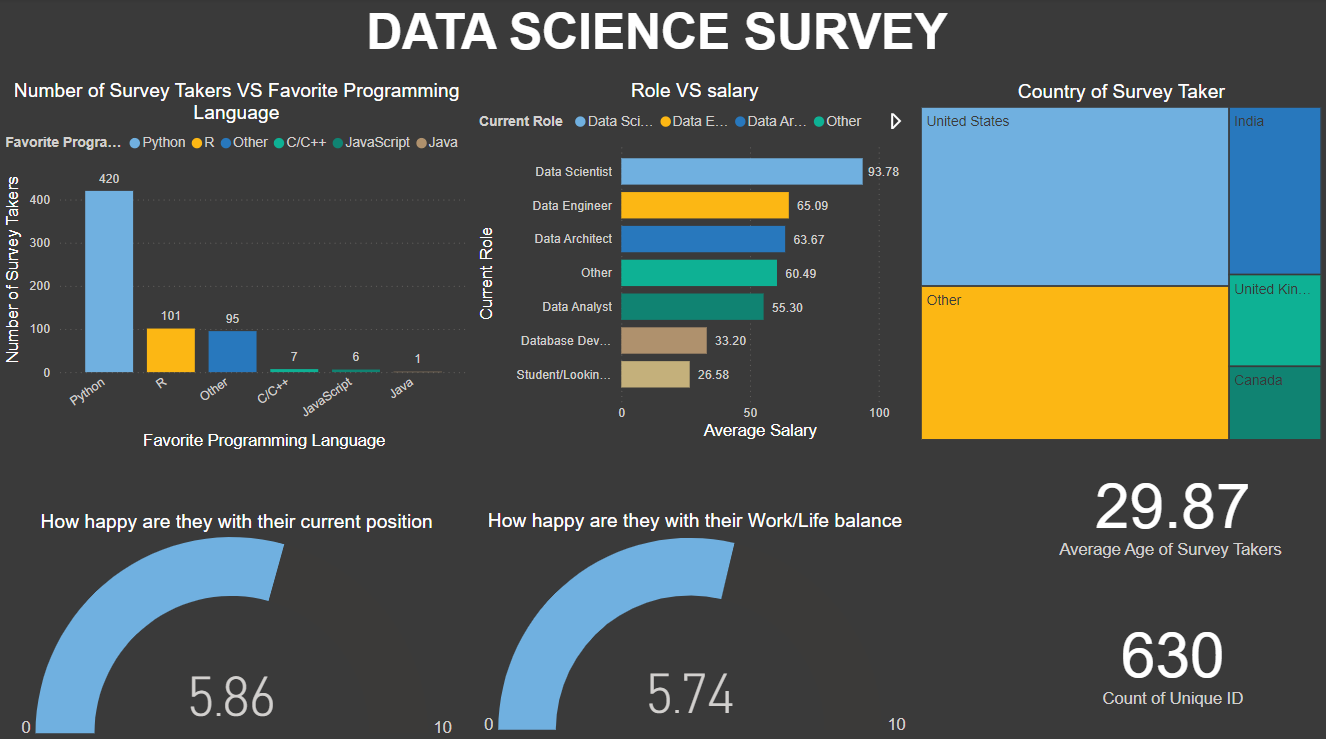

The dashboard page shown, as its layout file describes it:
{"tool":"powerbi","page":{"name":"Page 1","canvas":[1280,720],"ordinal":0},"visuals":[{"type":"columnChart","title":"Number of Survey Takers VS Favorite Programming Language  ","fields":{"Category":["salary_data_with_average.Q5 - Favorite Programming Language"],"Y":["CountNonNull(salary_data_with_average.Unique ID)"],"Series":["salary_data_with_average.Q5 - Favorite Programming Language"]},"box":[0,78.7,456.7,362.2],"z":0},{"type":"card","fields":{"Values":["CountNonNull(salary_data_with_average.Unique ID)"]},"box":[982.7,557.5,297.6,162.2],"z":1000},{"type":"textbox","box":[0,0,1280.3,78.7],"z":2000},{"type":"barChart","title":"Role VS salary ","fields":{"Category":["salary_data_with_average.Q1 - Which Title Best Fits your Current Role?"],"Y":["Avg(salary_data_with_average.average salary)"],"Series":["salary_data_with_average.Q1 - Which Title Best Fits your Current Role?"]},"box":[456.7,78.7,426.8,352.8],"z":3000},{"type":"card","fields":{"Values":["Avg(salary_data_with_average.Q10 - Current Age)"]},"box":[982.7,431.5,297.6,126],"z":4000},{"type":"gauge","title":"How happy are they with their current position","fields":{"Y":["Avg(salary_data_with_average.Q8 - How happy with the current position?(coworkers))"],"MinValue":["Min(salary_data_with_average.Q8 - How happy with the current position?(coworkers))"],"MaxValue":["Max(salary_data_with_average.Q8 - How happy with the current position?(coworkers))"]},"box":[0,494.5,456.7,225.2],"z":5000},{"type":"gauge","title":"How happy are they with their Work/Life balance ","fields":{"Y":["Avg(salary_data_with_average.Q7 - How happy with the work/life balance?)"],"MinValue":["Min(salary_data_with_average.Q7 - How happy with the work/life balance?)"],"MaxValue":["Max(salary_data_with_average.Q7 - How happy with the work/life balance?)"]},"box":[457,494,427,225],"z":6000},{"type":"treemap","title":"Country of Survey Taker ","fields":{"Group":["salary_data_with_average.Q11 - Which Country do you live in?.1"],"Values":["CountNonNull(salary_data_with_average.Q11 - Which Country do you live in?.1)"]},"box":[884,80,396,352],"z":7000}]}

Visuals, with their boxes in screenshot pixels (x1, y1, x2, y2), scaled from the page's 1280x720 canvas onto the 1326x739 screenshot:
"Number of Survey Takers VS Favorite Programming Language  " columnChart: bbox=[0, 81, 473, 453]
card - CountNonNull(salary_data_with_average.Unique ID): bbox=[1018, 572, 1325, 738]
textbox: bbox=[0, 0, 1325, 81]
"Role VS salary " barChart: bbox=[473, 81, 915, 443]
card - Avg(salary_data_with_average.Q10 - Current Age): bbox=[1018, 443, 1325, 572]
"How happy are they with their current position" gauge: bbox=[0, 508, 473, 738]
"How happy are they with their Work/Life balance " gauge: bbox=[473, 507, 916, 738]
"Country of Survey Taker " treemap: bbox=[916, 82, 1325, 443]
